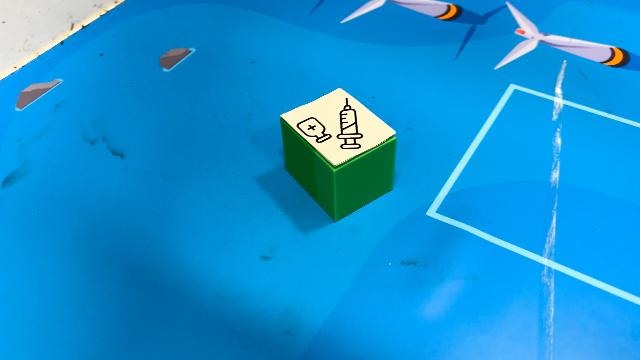syringe: (280, 89, 398, 223)
